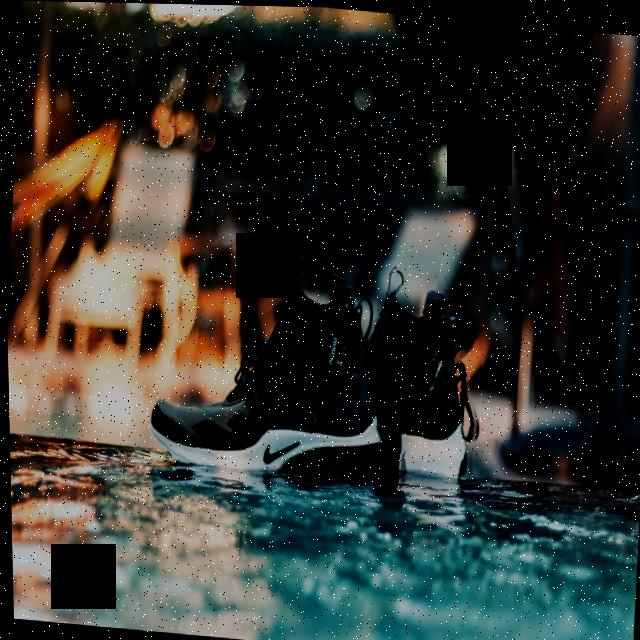shoe: (138, 239, 400, 495), (351, 262, 491, 496)
